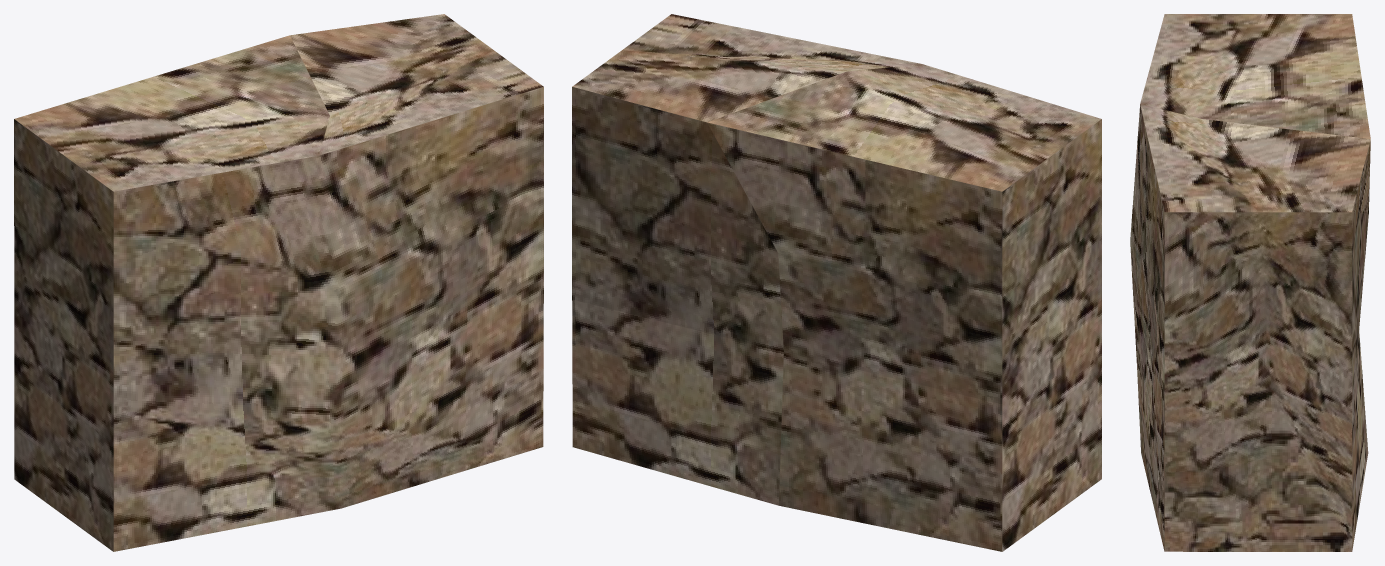
The model's file is lf_drystone_wall_half.glb.
The picture shows the model from 3 angles, left to right: view 1: azimuth 30°, elevation 25°; view 2: azimuth 150°, elevation 25°; view 3: azimuth 270°, elevation 25°; orthographic projection. The views are drawn at different scales.
Parts seen in each view (by area): view 1: drystone_wall_half; view 2: drystone_wall_half; view 3: drystone_wall_half.
Boxes of the visible parts, x1=… form: drystone_wall_half: x1=14, y1=14, x2=543, y2=551; drystone_wall_half: x1=572, y1=14, x2=1101, y2=551; drystone_wall_half: x1=1130, y1=14, x2=1370, y2=551.
Bounding box in the file's own units: 1 × 0.8151 × 0.513.
Materials: 1 (1 with a texture image).
